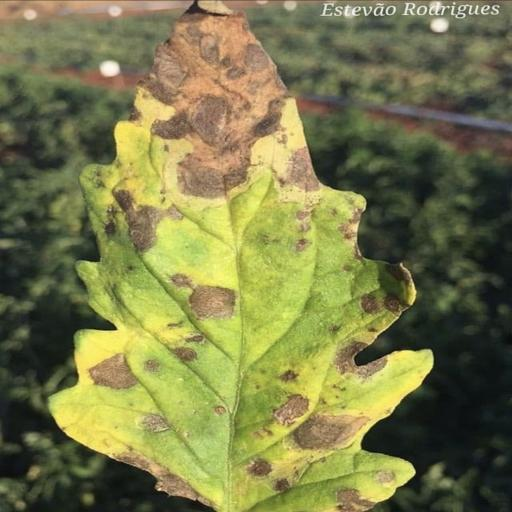disease_tomato: (50, 0, 436, 512)
